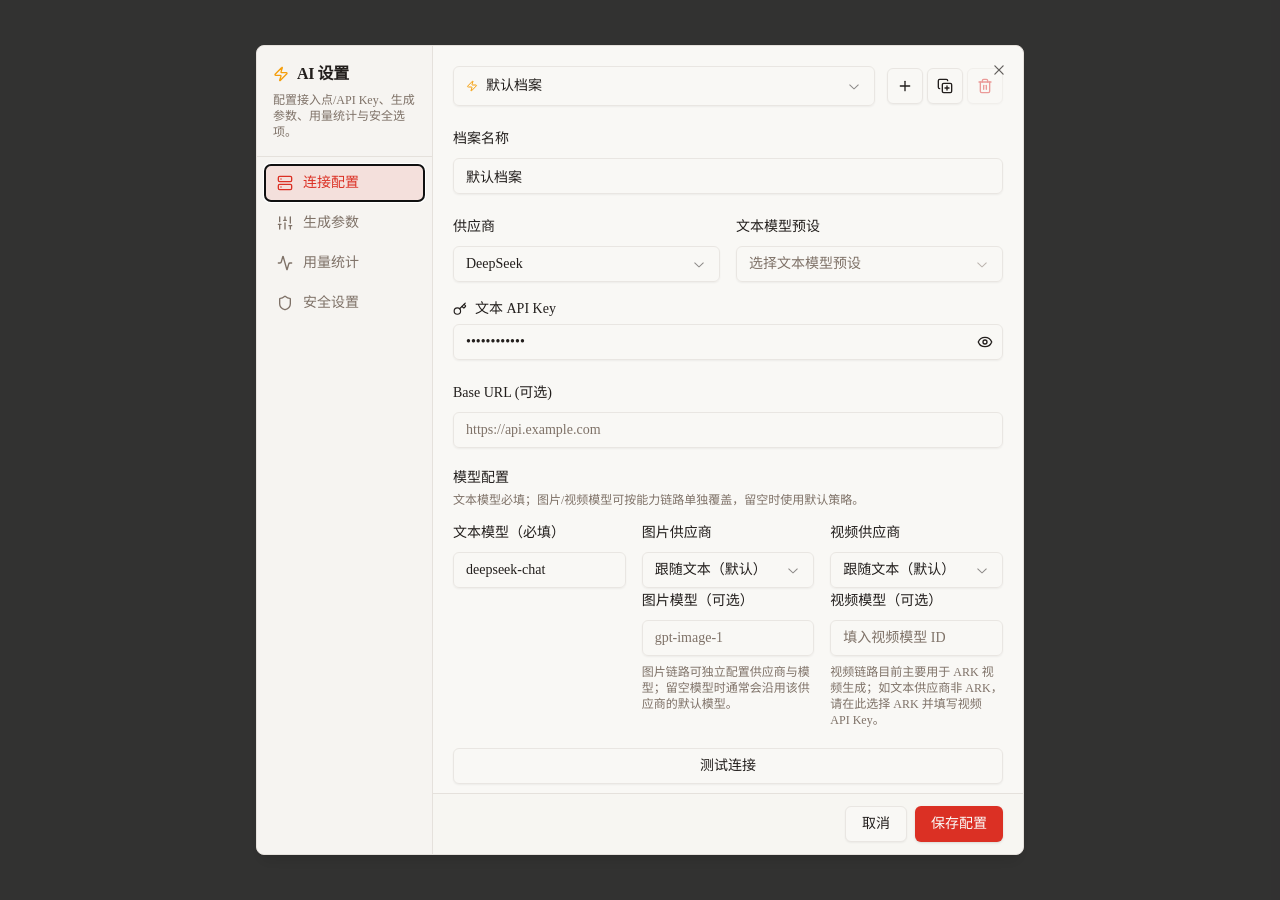
Test case: ConfigDialog 加密密码设置 › 应显示加密密码设置区域
Click the button "安全设置" at (344, 303), box x1=265 y1=285 x2=424 y2=321
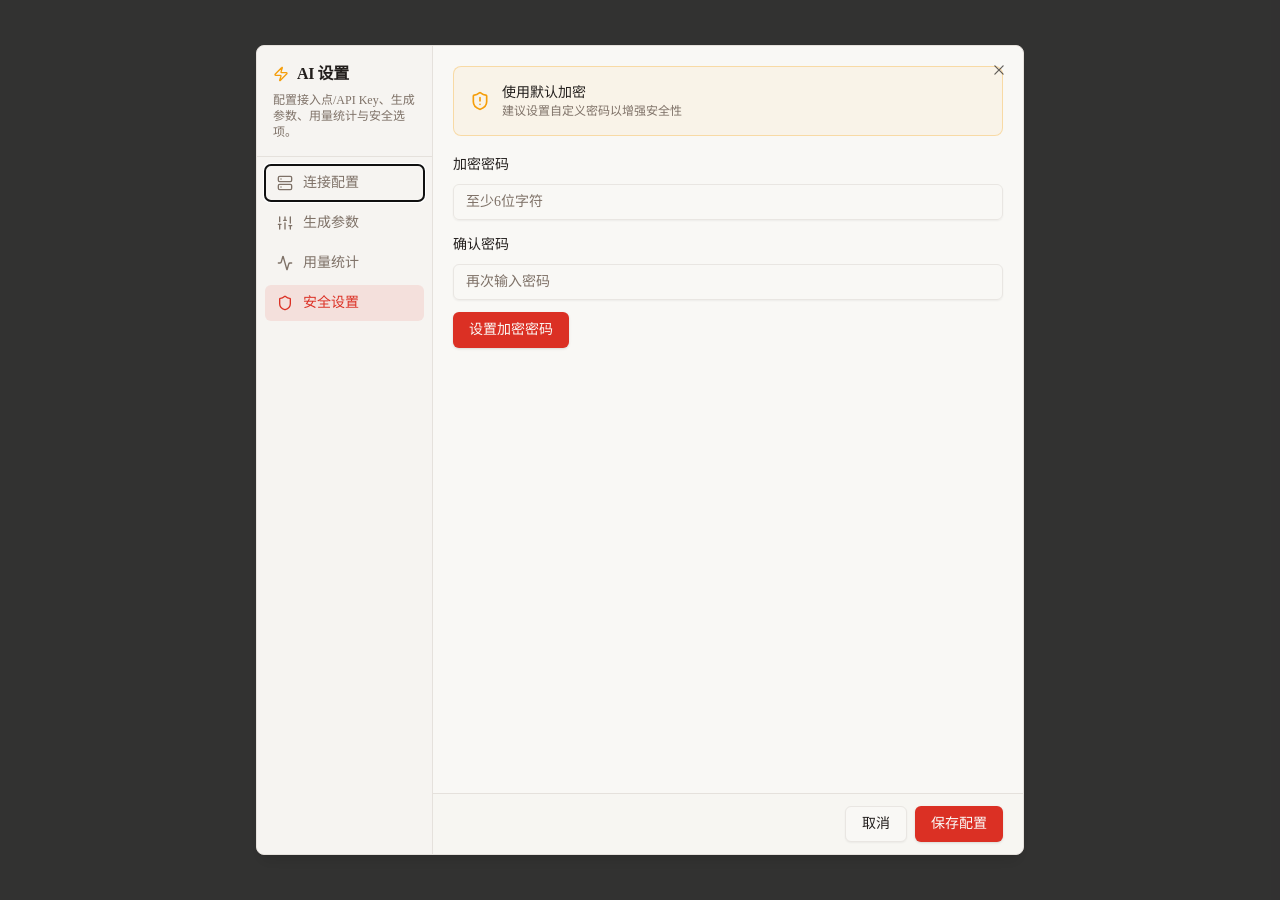
Check: the text "使用默认加密" is shown, box x1=502 y1=85 x2=586 y2=100
